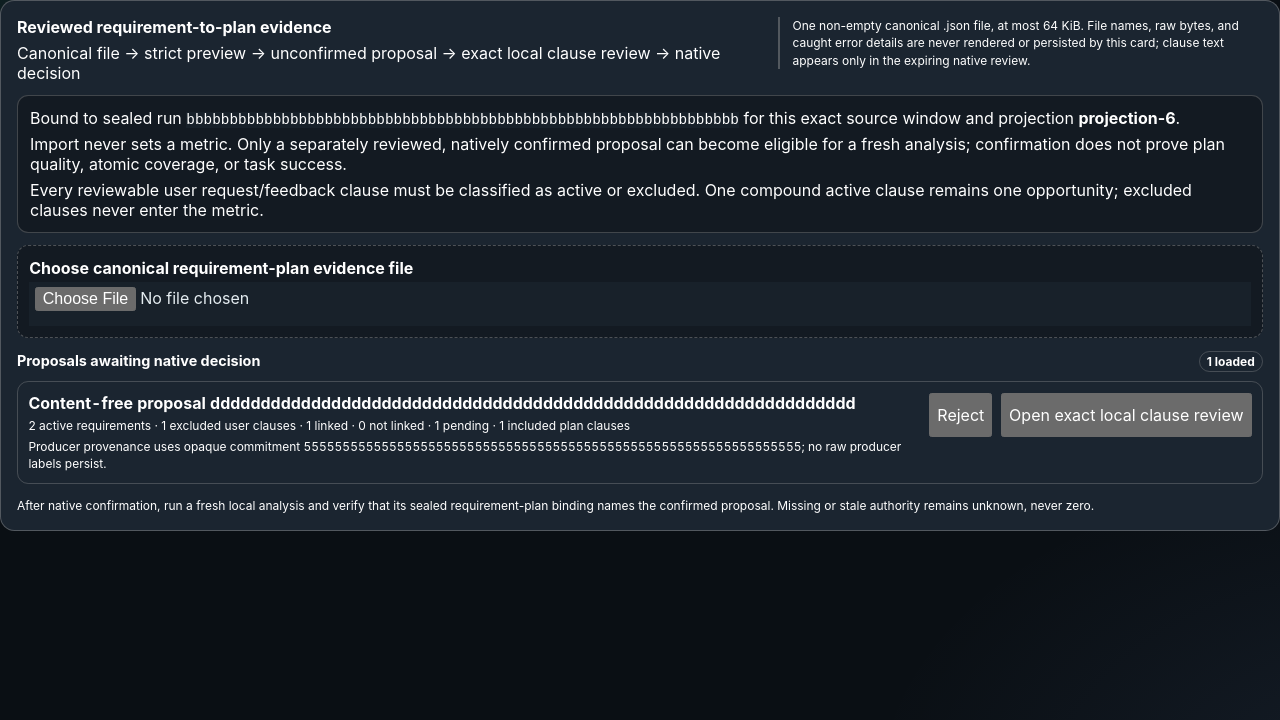
Scenario: RequirementPlanEvidencePanel › fails closed on incomplete review and on load errors without exposing caught details
The image size is (1280, 720).
Later steps or results of the test are not shown.
Click the button "Open exact local clause review". click: (1126, 414)
box: x1=1001 y1=392 x2=1252 y2=436
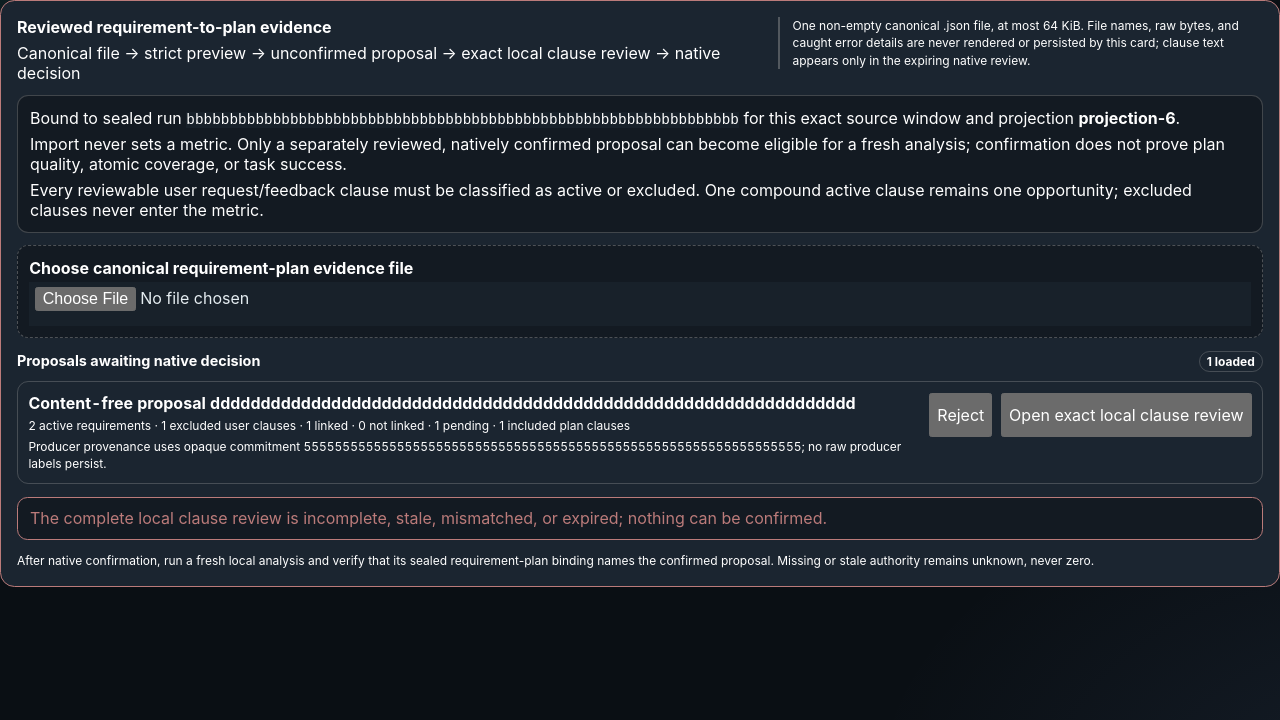
Check: the message shows "incomplete, stale, mismatched, or expired", box x1=30 y1=508 x2=827 y2=528
